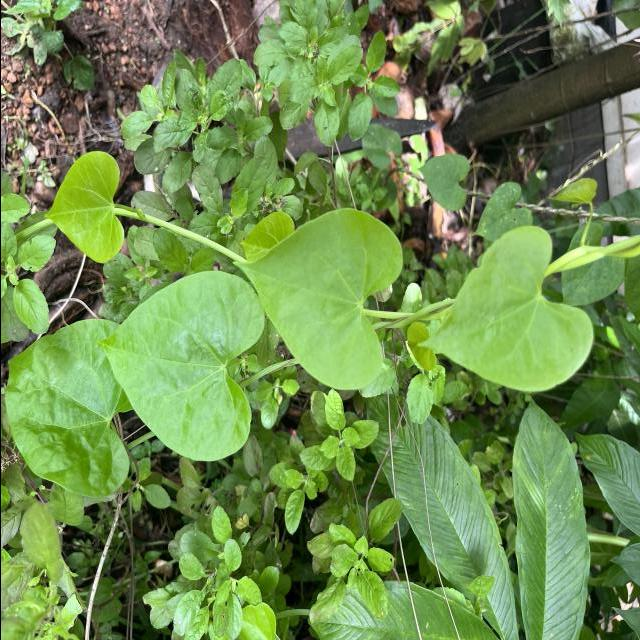Tinospora cordifolia: (95, 269, 266, 464), (230, 205, 405, 395), (416, 224, 598, 394), (1, 316, 139, 501), (42, 148, 126, 266)
